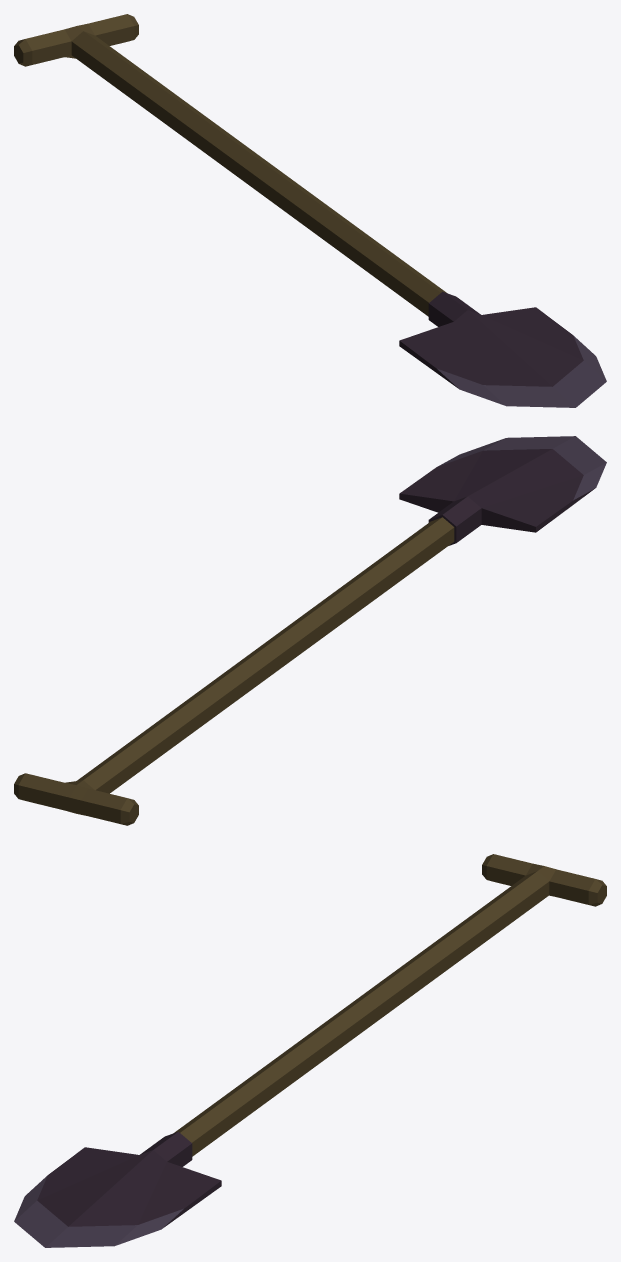
The model's file is Shovel.fbx.
3 views of the same model, one above another, from view 1: azimuth 30°, elevation 25°; view 2: azimuth 150°, elevation 25°; view 3: azimuth 330°, elevation 25° (orthographic).
Parts seen in each view (by area): view 1: Shovel; view 2: Shovel; view 3: Shovel.
Part boxes in pixels (x1,y1,x2,y2): Shovel: [14, 14, 606, 407]; Shovel: [14, 436, 606, 825]; Shovel: [14, 854, 606, 1247].
Size of the model in its own units: 16.94 by 3.96 by 109.
